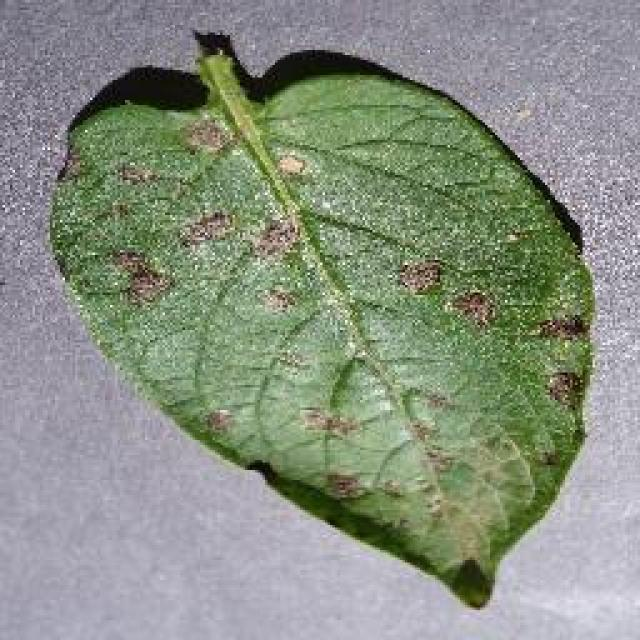Potato___Early_blight: (42, 51, 600, 613)
